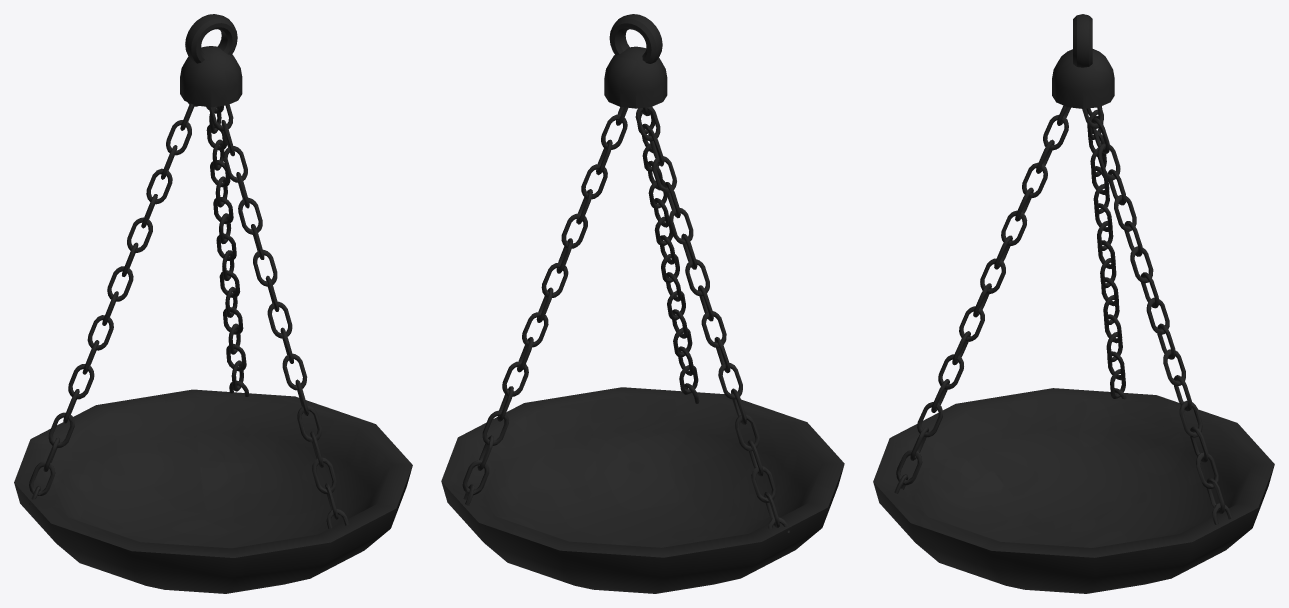
Rendered from szalka.fbx.
3 renders of one model, left to right at view 1: azimuth 30°, elevation 25°; view 2: azimuth 150°, elevation 25°; view 3: azimuth 270°, elevation 25°, orthographic.
Visible parts, largest first — view 1: Sphere.003; view 2: Sphere.003; view 3: Sphere.003.
Part boxes in pixels (x1=…): Sphere.003: x1=14, y1=14, x2=412, y2=593; Sphere.003: x1=441, y1=14, x2=844, y2=593; Sphere.003: x1=873, y1=14, x2=1274, y2=593.
Bounding box in the file's own units: 104 × 157 × 104.
Materials: 1 (1 with a texture image).
